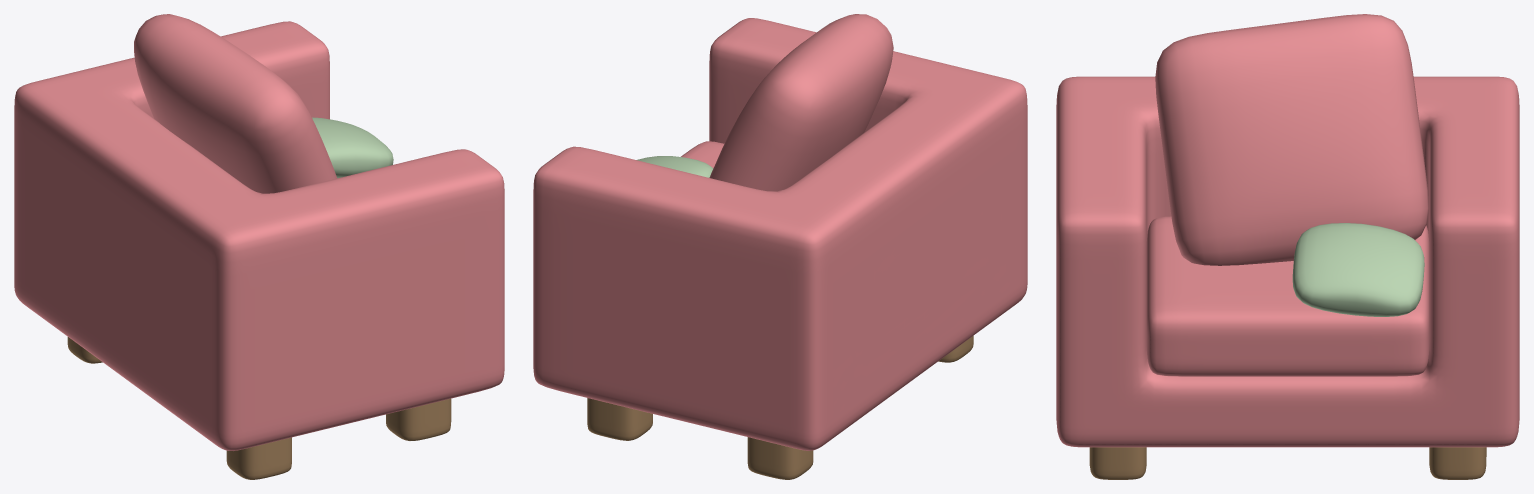
Rendered from sofa03.fbx.
3 renders of one model, left to right at view 1: azimuth 30°, elevation 25°; view 2: azimuth 150°, elevation 25°; view 3: azimuth 270°, elevation 25°, orthographic. The views are drawn at different scales.
Visible parts, largest first — view 1: sofa.001, cushion.002, sofa leg.001, pillow.002; view 2: sofa.001, cushion.002, sofa leg.001, pillow.002; view 3: sofa.001, cushion.002, pillow.002, sofa leg.001.
Boxes of the visible parts, x1=… form: sofa.001: x1=14, y1=21, x2=504, y2=450; cushion.002: x1=134, y1=14, x2=337, y2=193; sofa leg.001: x1=67, y1=337, x2=451, y2=479; pillow.002: x1=312, y1=117, x2=393, y2=178; sofa.001: x1=533, y1=18, x2=1027, y2=450; cushion.002: x1=709, y1=14, x2=893, y2=191; sofa leg.001: x1=587, y1=336, x2=973, y2=479; pillow.002: x1=636, y1=156, x2=713, y2=177; sofa.001: x1=1056, y1=76, x2=1519, y2=447; cushion.002: x1=1155, y1=14, x2=1428, y2=265; pillow.002: x1=1292, y1=223, x2=1424, y2=316; sofa leg.001: x1=1089, y1=447, x2=1486, y2=479.
Size of the model in its own units: 189 by 223 by 244.
